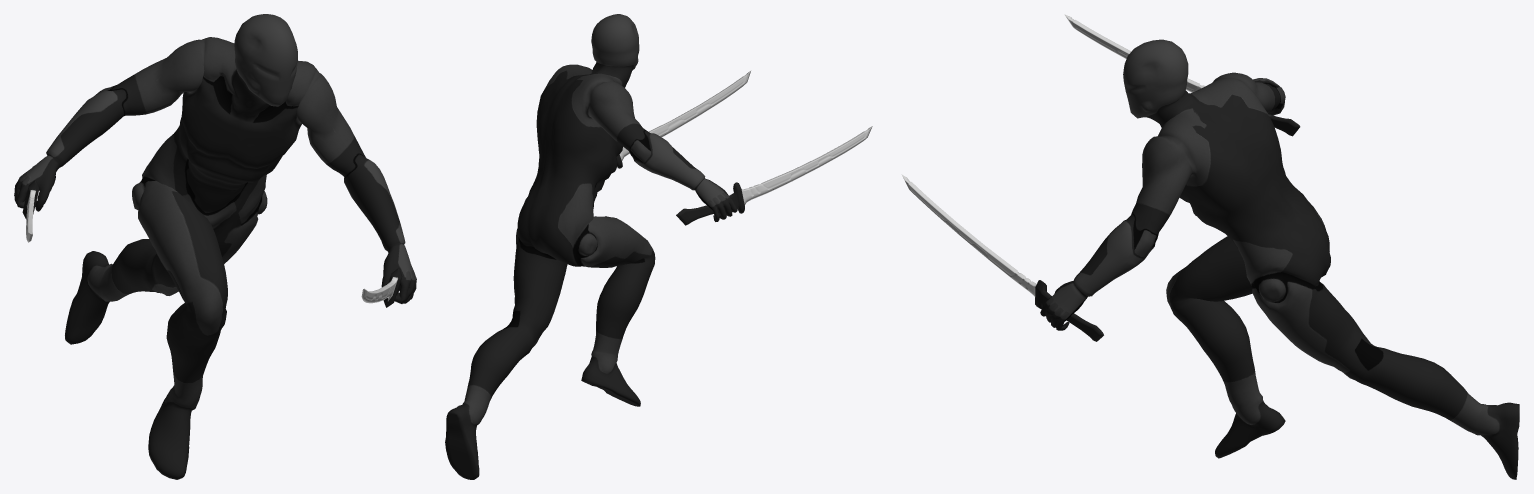
3 views of the same model, side by side, from view 1: azimuth 30°, elevation 25°; view 2: azimuth 150°, elevation 25°; view 3: azimuth 270°, elevation 25° (orthographic). The views are drawn at different scales.
Visible parts, largest first — view 1: Cyborg_Ninja_Killer, Sword_l, Sword_l001; view 2: Cyborg_Ninja_Killer, Sword_l001, Sword_l; view 3: Cyborg_Ninja_Killer, Sword_l, Sword_l001.
Boxes of the visible parts, x1,y1,x2,y2 form: Cyborg_Ninja_Killer: [14, 14, 416, 479]; Sword_l: [361, 268, 402, 307]; Sword_l001: [22, 165, 39, 242]; Cyborg_Ninja_Killer: [445, 14, 737, 479]; Sword_l001: [676, 126, 872, 225]; Sword_l: [616, 70, 751, 168]; Cyborg_Ninja_Killer: [1040, 39, 1519, 479]; Sword_l: [901, 174, 1103, 341]; Sword_l001: [1064, 14, 1300, 136].
Bounding box in the file's own units: 137 × 154 × 196.
Materials: 2 (2 with a texture image).
